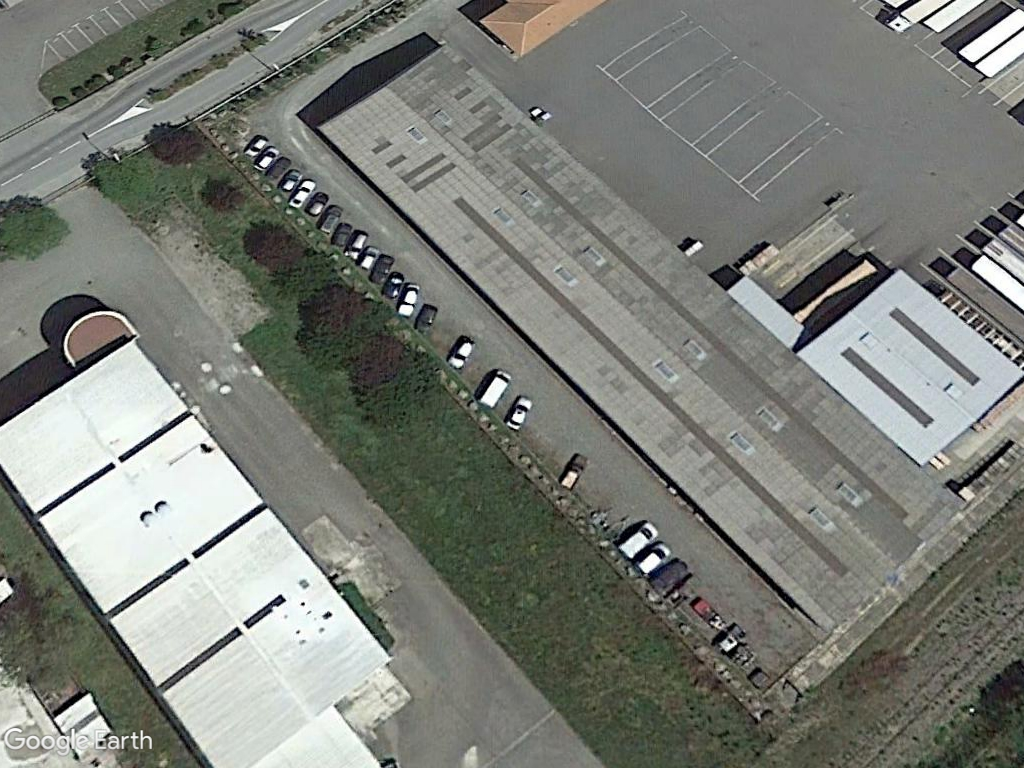car: (552, 448, 594, 496), (449, 331, 476, 372)
van: (480, 360, 515, 415)
